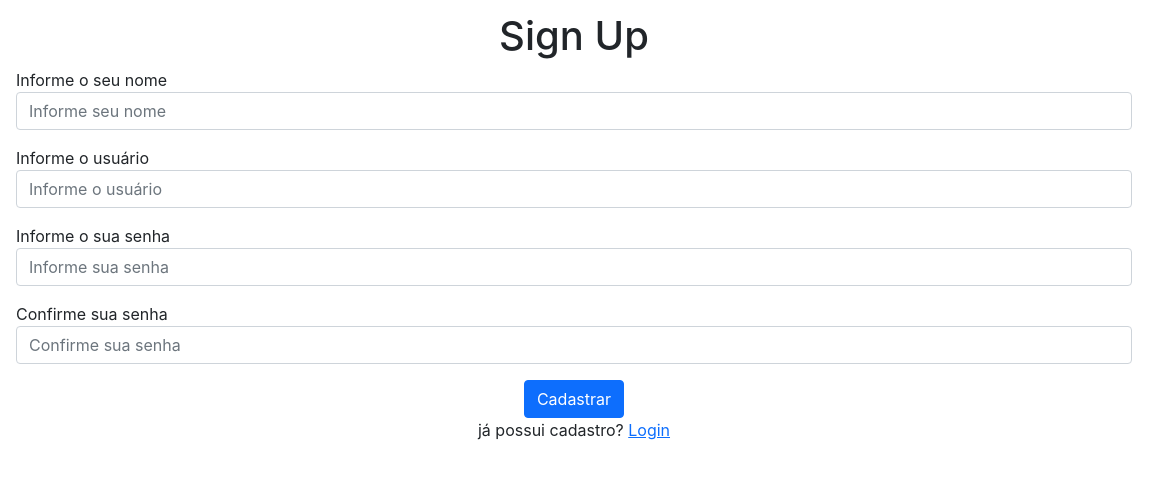
Test: UserSignupPage › Interactions › displays validation error for displayName when error is received for the field
Type "my-display-name" into the field with placeholder "Informe seu nome" at (574, 111), box [16,92,1132,130]
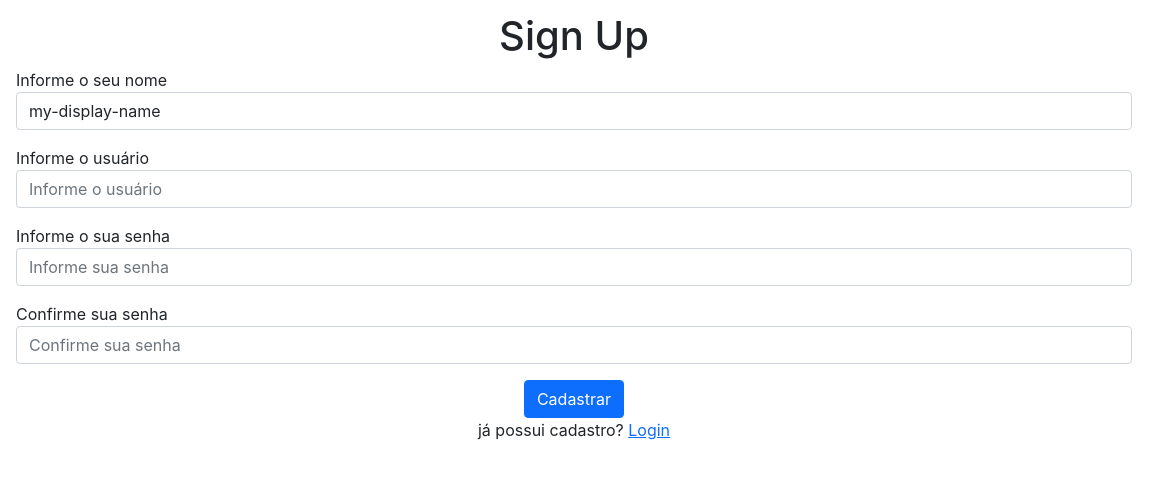
Type "my-username" into the field with placeholder "Informe o usuário" at (574, 189), box [16,170,1132,208]
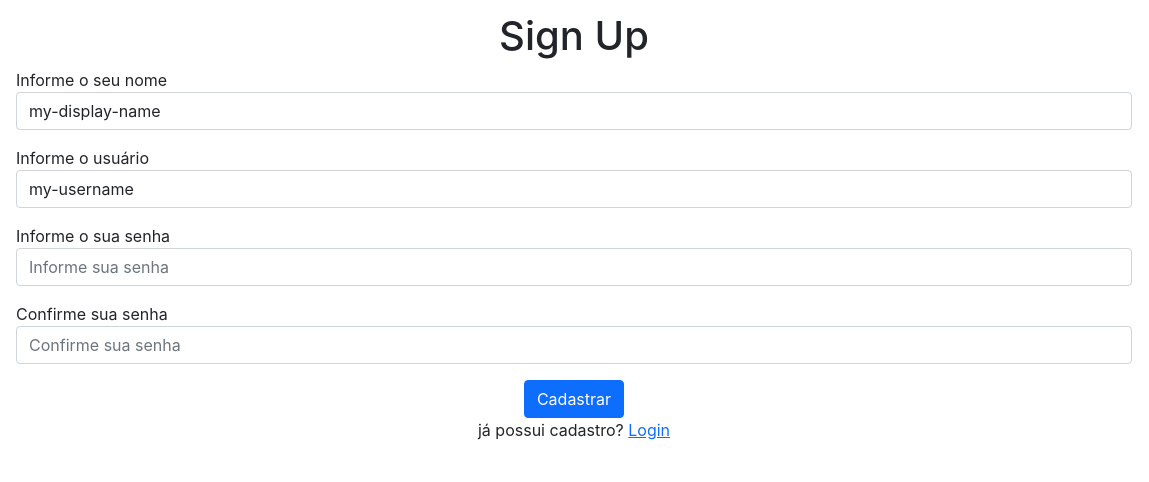
Type "P4ssword" into the password field with placeholder "Informe sua senha" at (574, 267), box [16,248,1132,286]
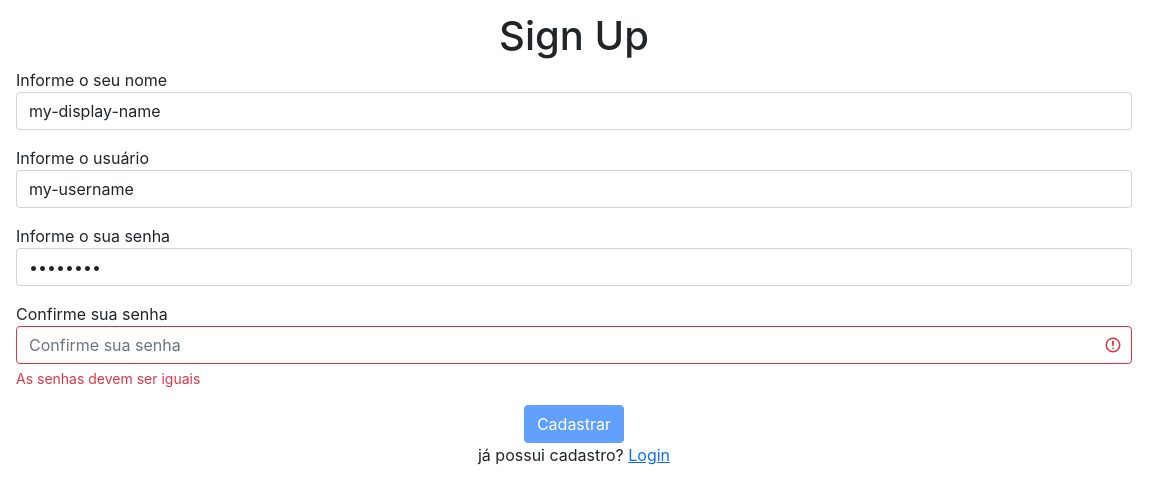
Type "P4ssword" into the password field with placeholder "Confirme sua senha" at (574, 345), box [16,326,1132,364]
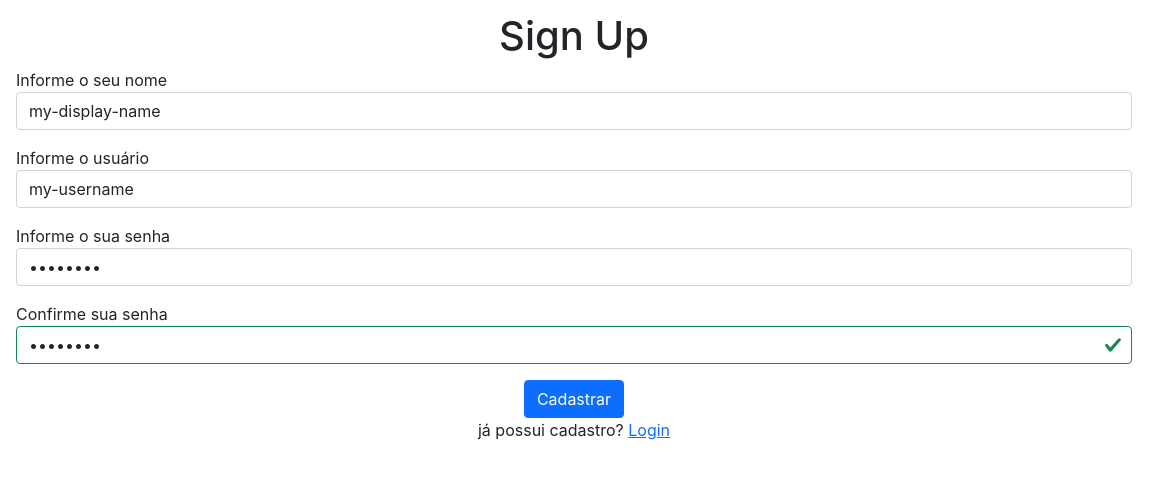
Click the button "Cadastrar" at (574, 399), box [524,380,624,418]
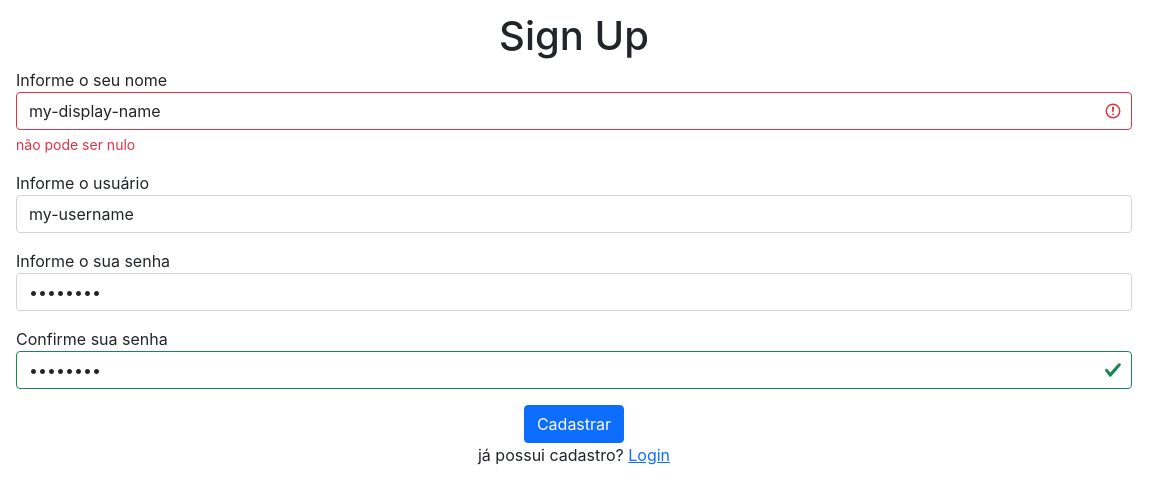
Now the text "não pode ser nulo" is shown, box [16,136,135,153]
